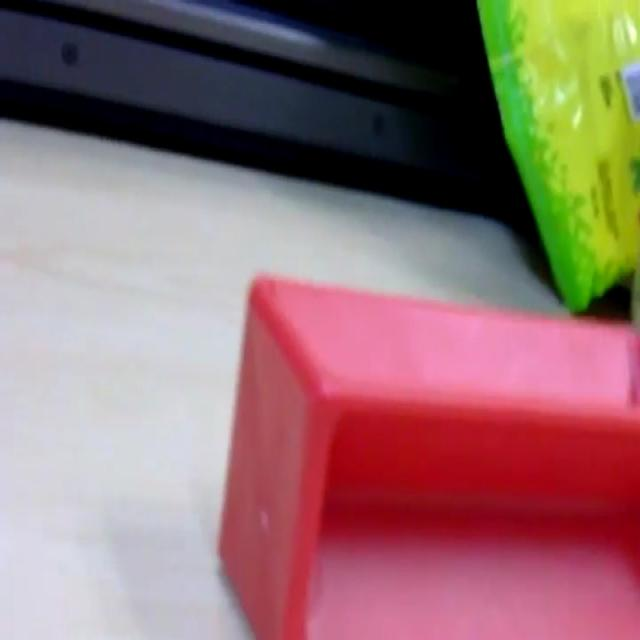red_block: (216, 268, 639, 636)
